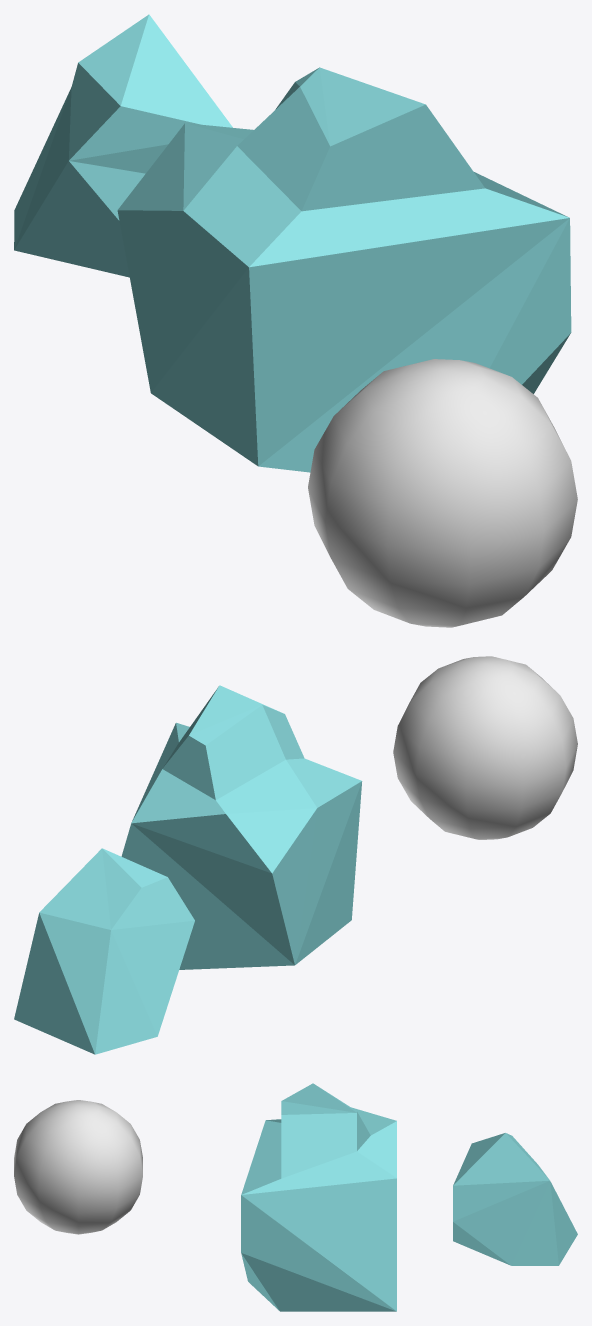
The model's file is IceProps.fbx.
3 renders of one model, top to bottom at view 1: azimuth 30°, elevation 25°; view 2: azimuth 150°, elevation 25°; view 3: azimuth 270°, elevation 25°, orthographic. The views are drawn at different scales.
Parts seen in each view (by area): view 1: IceStone2, SnowBall, IceStone1; view 2: IceStone2, SnowBall, IceStone1; view 3: IceStone2, SnowBall, IceStone1.
Part boxes in pixels (box(x1,y1,x2,y2)): IceStone2: box(117, 67, 571, 472); SnowBall: box(308, 359, 577, 627); IceStone1: box(14, 14, 232, 277); IceStone2: box(121, 685, 362, 969); SnowBall: box(393, 656, 577, 839); IceStone1: box(14, 848, 194, 1054); IceStone2: box(241, 1083, 396, 1311); SnowBall: box(14, 1100, 142, 1234); IceStone1: box(453, 1133, 577, 1265).
Size of the model in its own units: 14.08 by 12.29 by 33.66.
